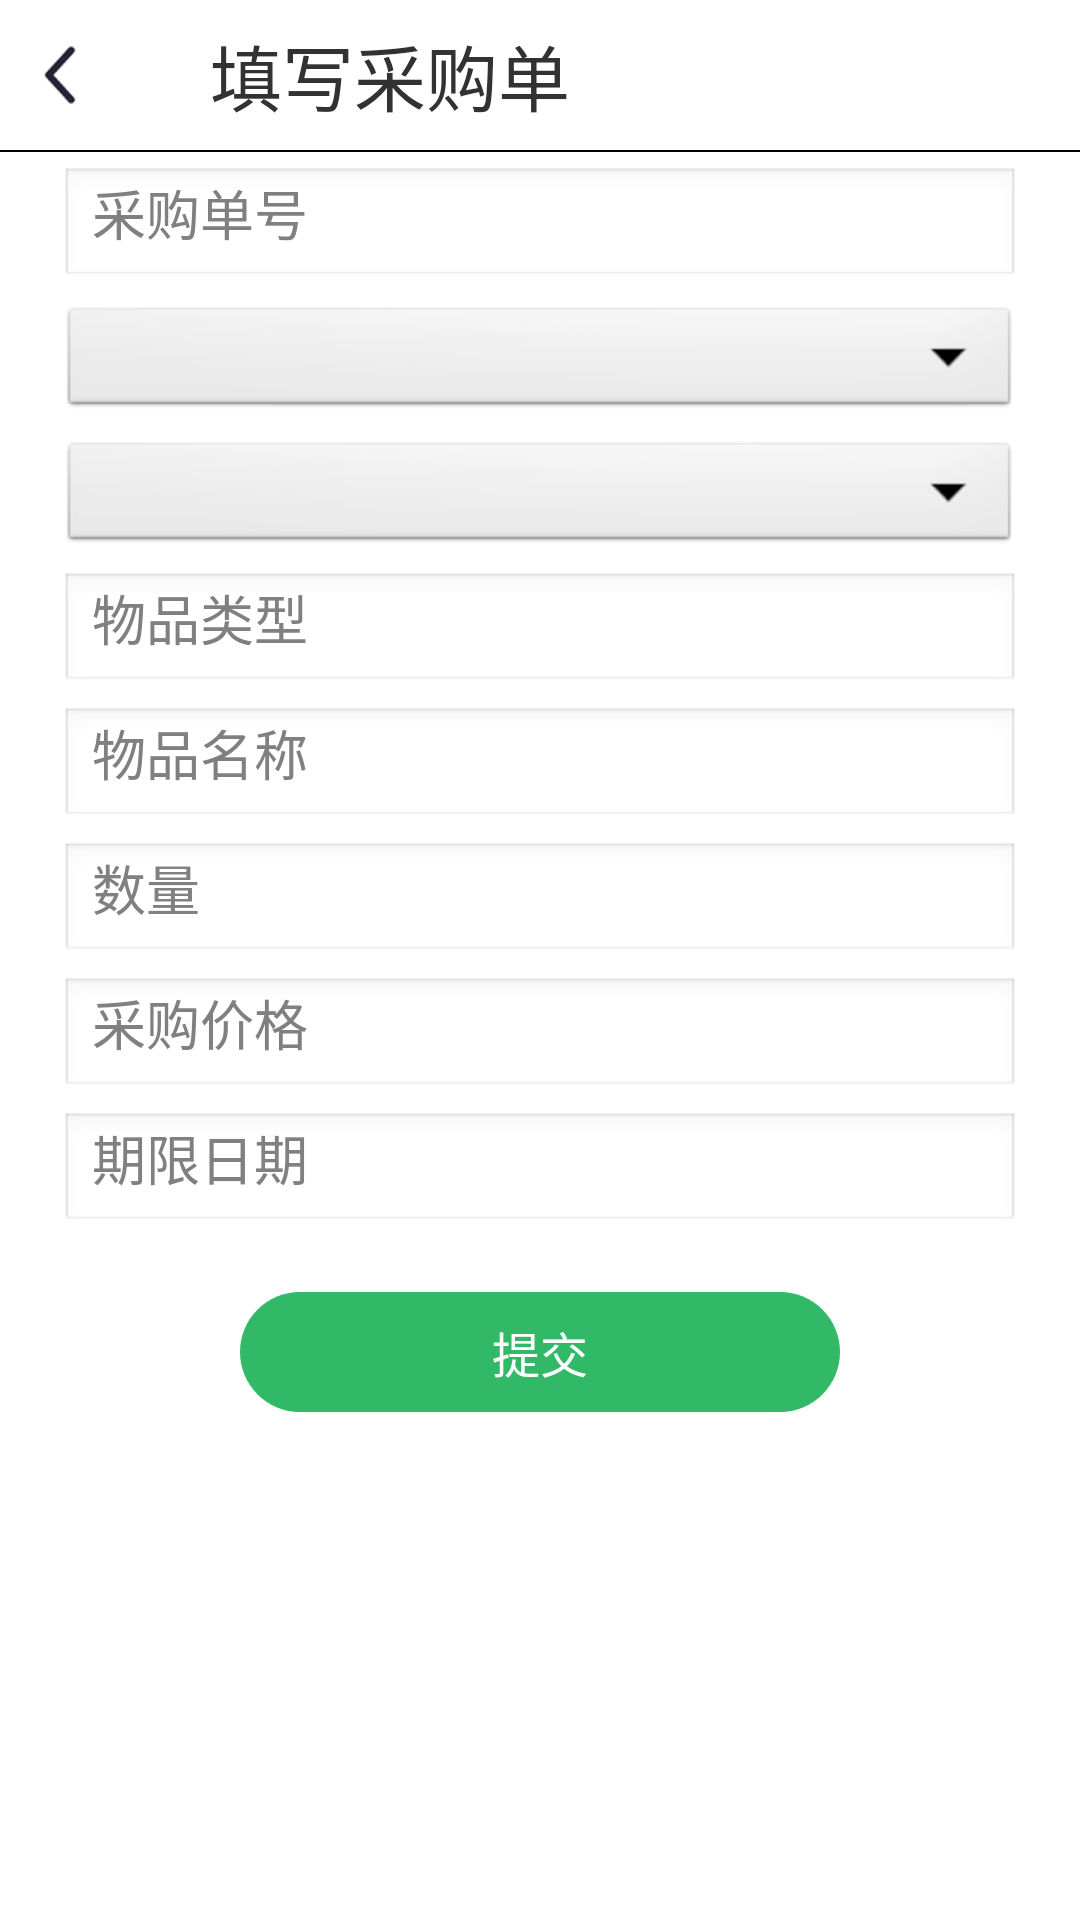

Screen size 1080 x 1920. Icon name, then its center in pixels as (x=x, y=y):
arrow back: (x=60, y=75)
